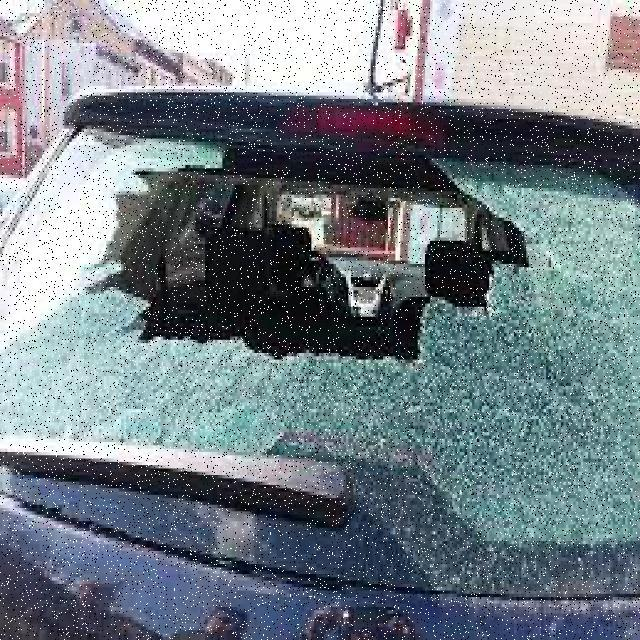Rear-windscreen-Damage: (0, 80, 632, 582)
